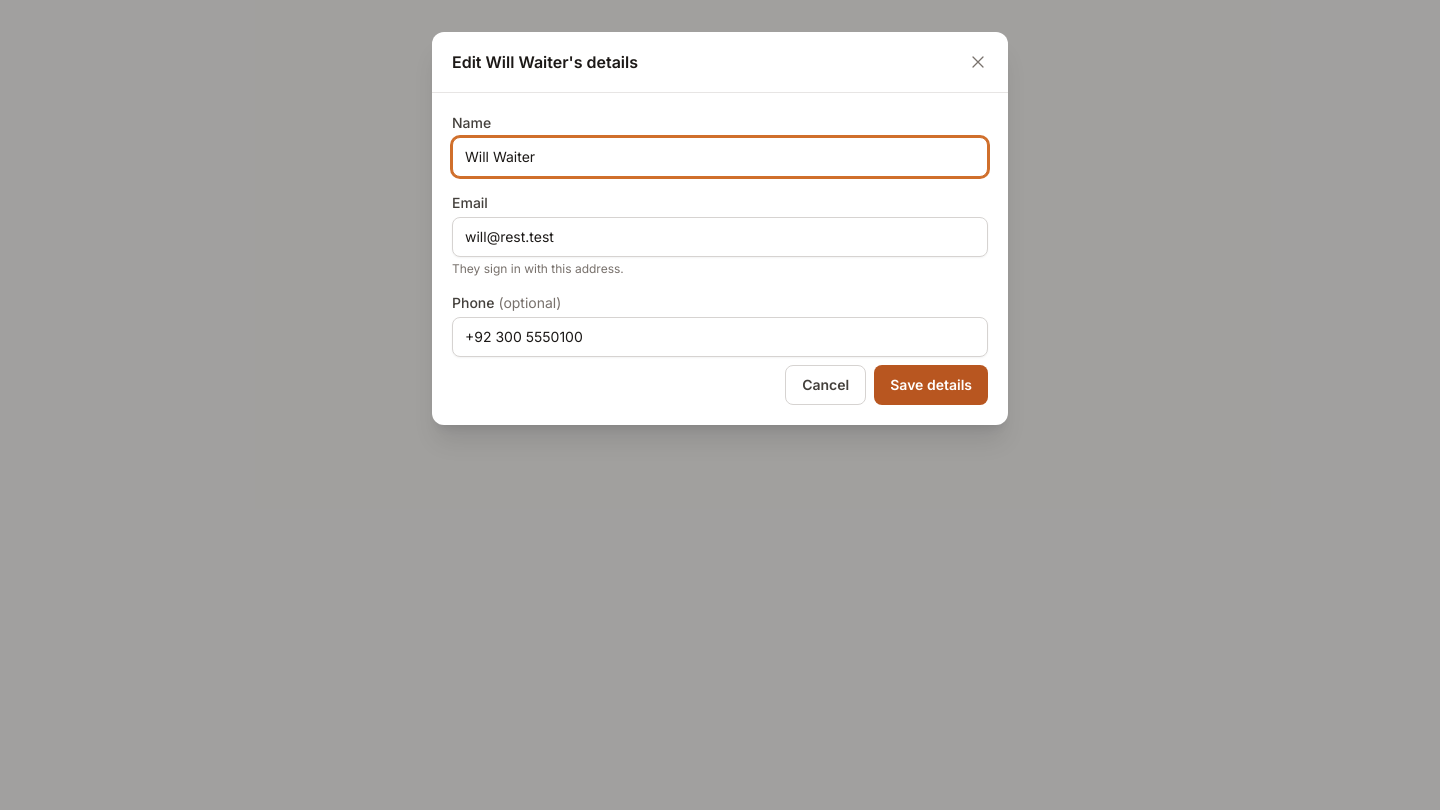
Test: EditAccountModal › shows a 403 rank refusal as a form error
What coordinates should you click on to do the following:
click the button "Save details"
I would click on:
 (931, 385)
Its box is [874, 365, 988, 405].
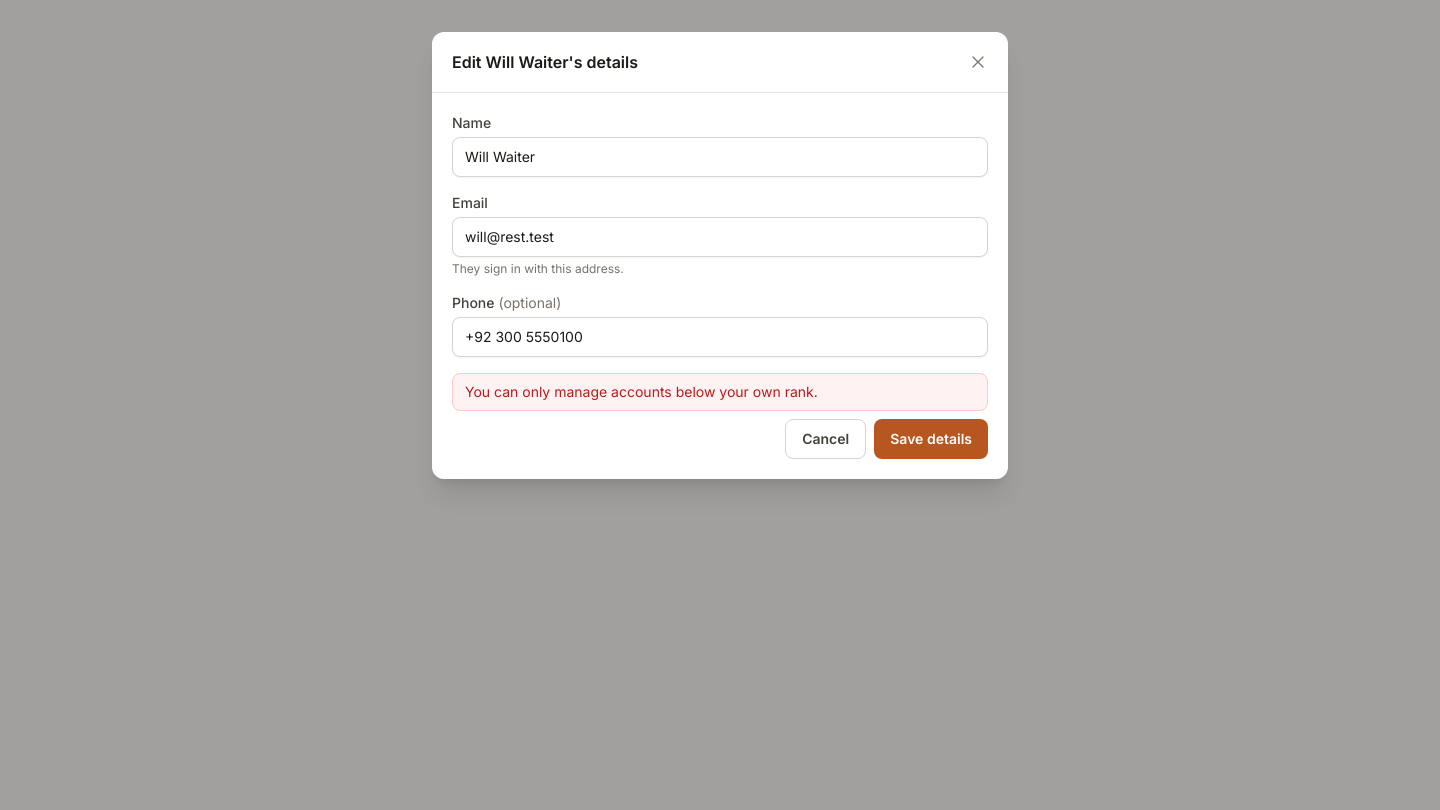
Now the message reads "You can only manage accounts below your own rank.", box [465, 383, 818, 400]
